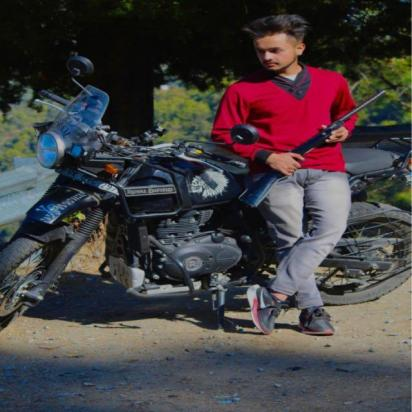Gun: (234, 88, 388, 211)
